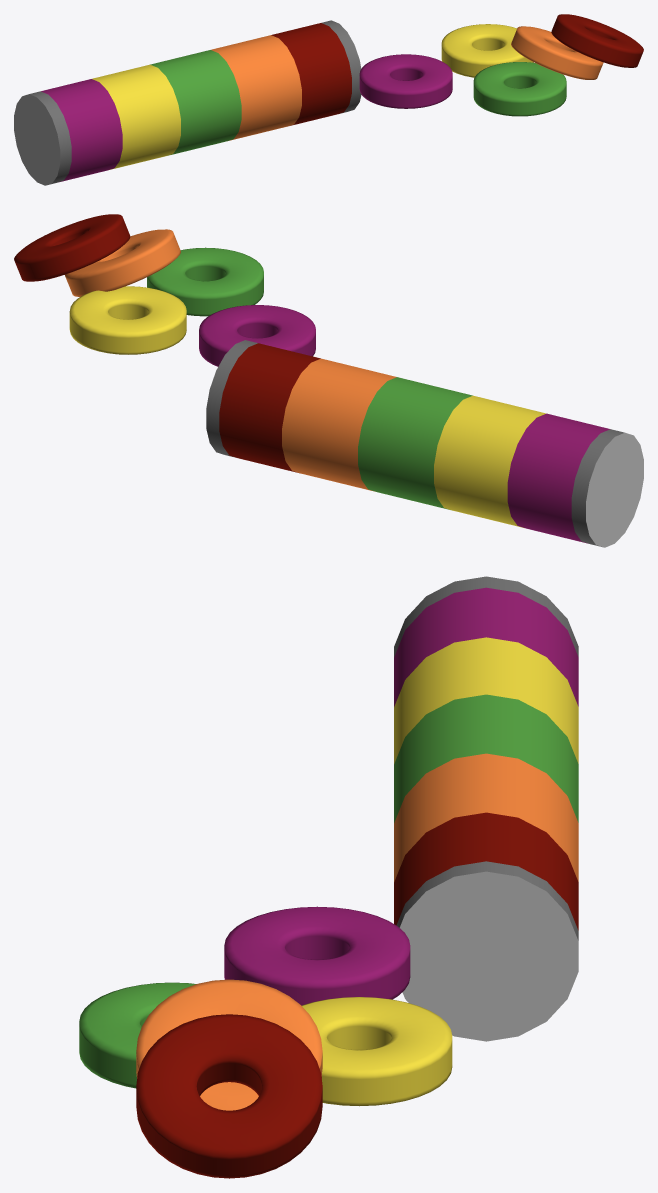
Rendered from 68e95b61-3c4f-47f2-b080-cb1a6cdf2094.glb.
3 views of the same model, one above another, from view 1: azimuth 30°, elevation 25°; view 2: azimuth 150°, elevation 25°; view 3: azimuth 270°, elevation 25° (orthographic). The views are drawn at different scales.
Parts seen in each view (by area): view 1: Cylinder001, Tube001, Tube002, Tube003, Tube005, Tube004; view 2: Cylinder001, Tube003, Tube002, Tube001, Tube005, Tube004; view 3: Cylinder001, Tube005, Tube001, Tube003, Tube004, Tube002.
Boxes of the visible parts, x1,y1,x2,y2 form: Cylinder001: (14, 20, 361, 185); Tube001: (359, 54, 452, 108); Tube002: (473, 62, 566, 116); Tube003: (441, 24, 533, 77); Tube005: (551, 14, 643, 67); Tube004: (511, 26, 603, 79); Cylinder001: (206, 340, 643, 547); Tube003: (69, 286, 186, 354); Tube002: (147, 247, 263, 316); Tube001: (199, 305, 315, 366); Tube005: (14, 214, 130, 281); Tube004: (65, 229, 180, 296); Cylinder001: (394, 576, 578, 1041); Tube005: (136, 1014, 322, 1178); Tube001: (224, 906, 410, 1005); Tube003: (302, 997, 452, 1106); Tube004: (136, 979, 322, 1110); Tube002: (79, 982, 196, 1088).
Bounding box in the file's own units: 71.19 × 11.68 × 28.74.
